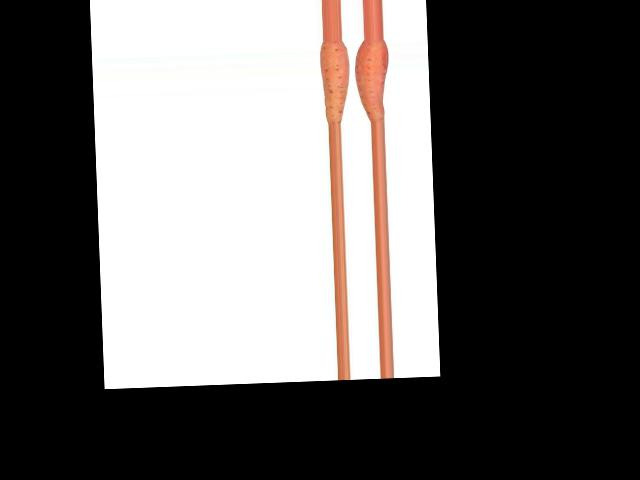sweet_potato: (320, 40, 351, 122)
